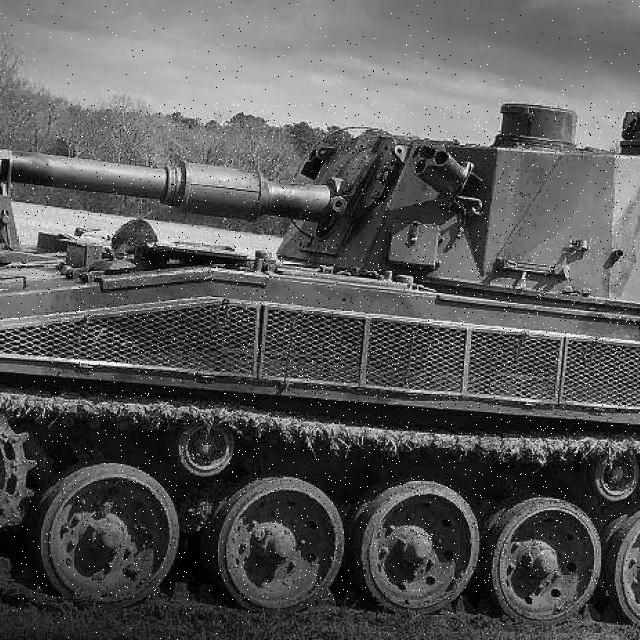MIL_MBT: (18, 103, 637, 600)
